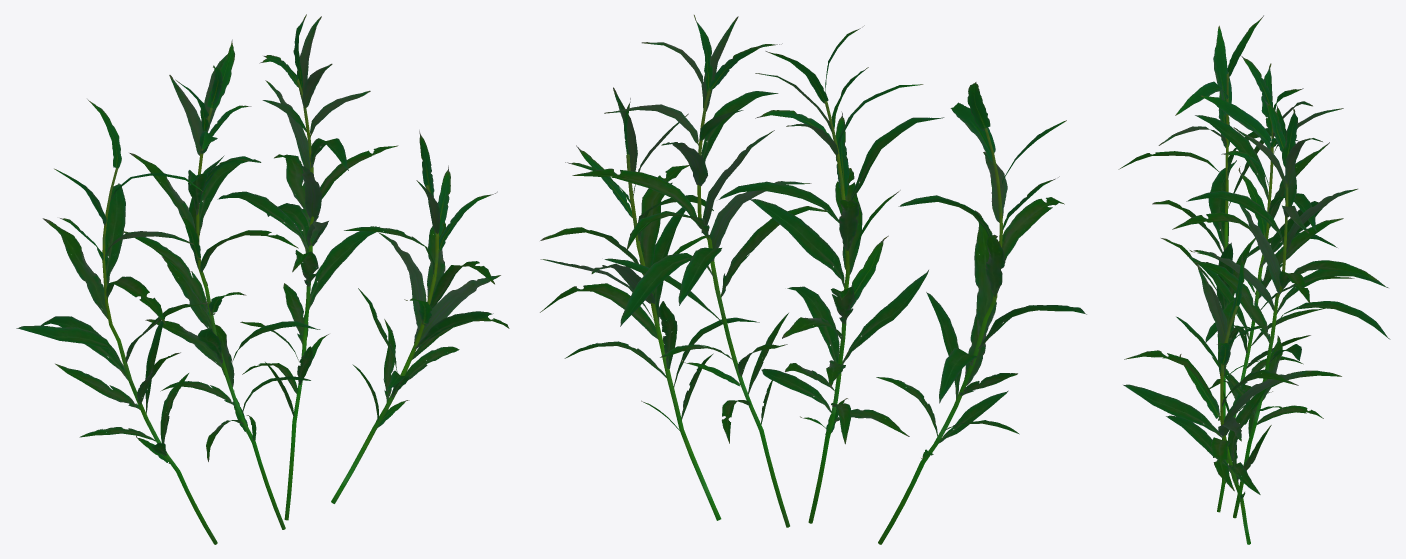
The picture shows the model from 3 angles, left to right: view 1: azimuth 30°, elevation 25°; view 2: azimuth 150°, elevation 25°; view 3: azimuth 270°, elevation 25°; orthographic projection. The views are drawn at different scales.
Parts seen in each view (by area): view 1: SM_US_Red_Bush_02_LOD0; view 2: SM_US_Red_Bush_02_LOD0; view 3: SM_US_Red_Bush_02_LOD0.
Part boxes in pixels (x1=…): SM_US_Red_Bush_02_LOD0: x1=16, y1=14, x2=509, y2=544; SM_US_Red_Bush_02_LOD0: x1=540, y1=15, x2=1086, y2=544; SM_US_Red_Bush_02_LOD0: x1=1118, y1=15, x2=1390, y2=544.
Bounding box in the file's own units: 0.7911 × 0.7241 × 0.4141.
Materials: 1 (1 with a texture image).
